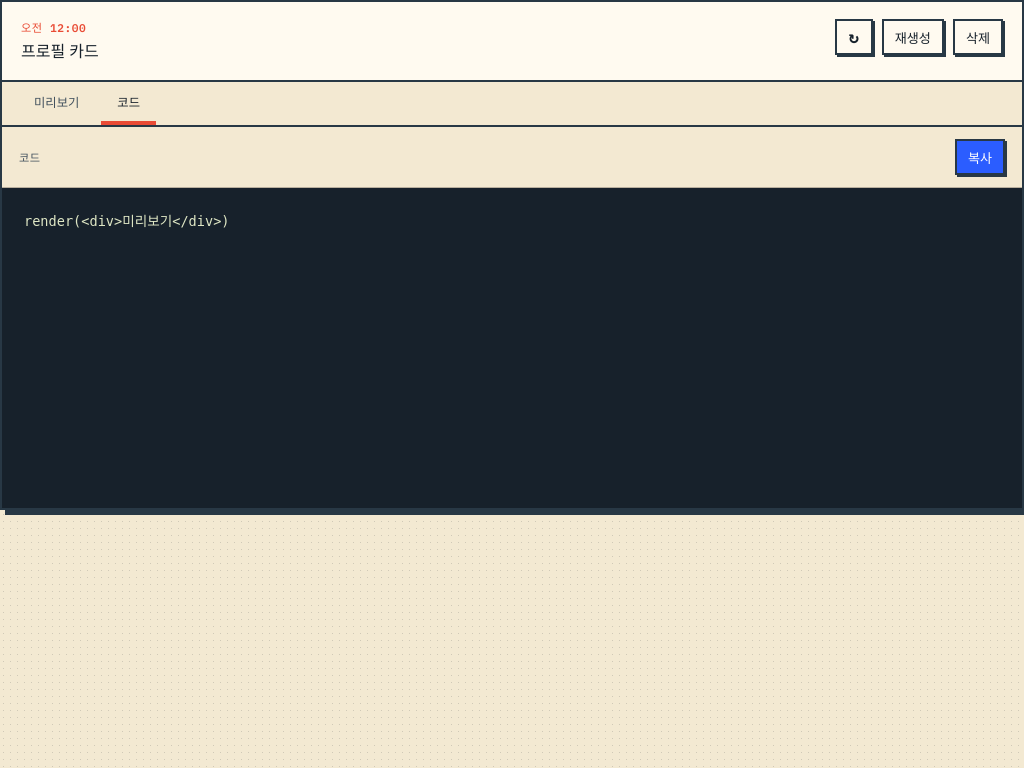
Test: ComponentCard › 복원된 컴포넌트의 미리보기는 사용자가 실행할 때까지 잠긴다
Click the button "미리보기": (57,104) [18,82,95,125]
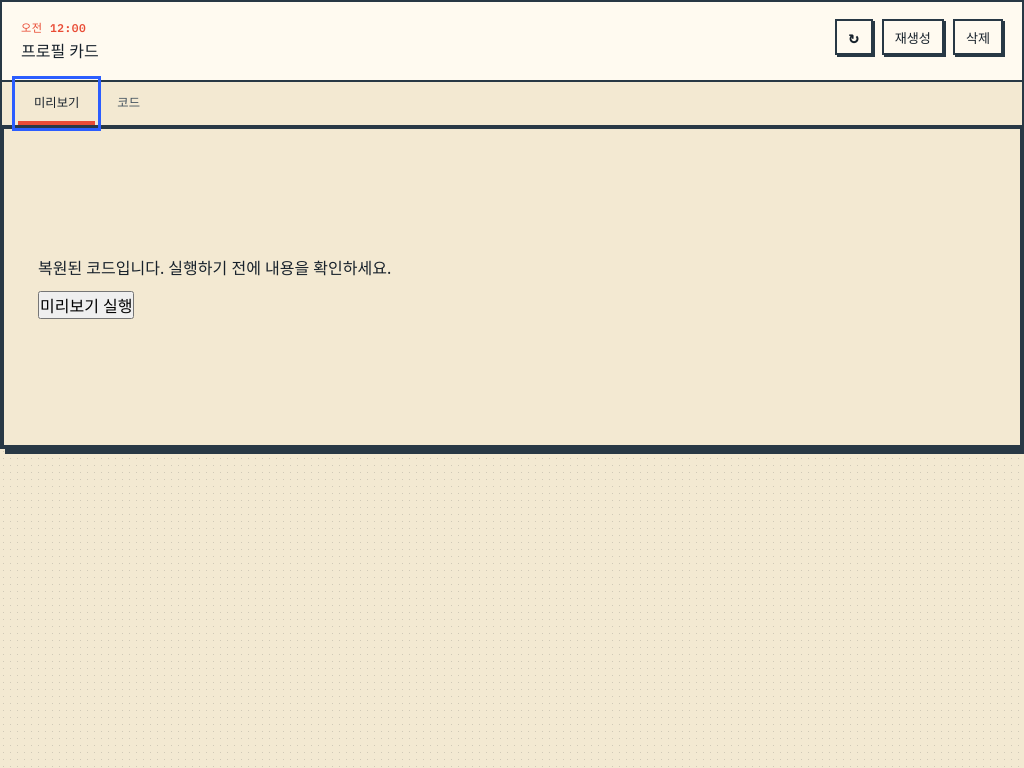
Now the button "미리보기 실행" is shown, box [38,291,134,319]
